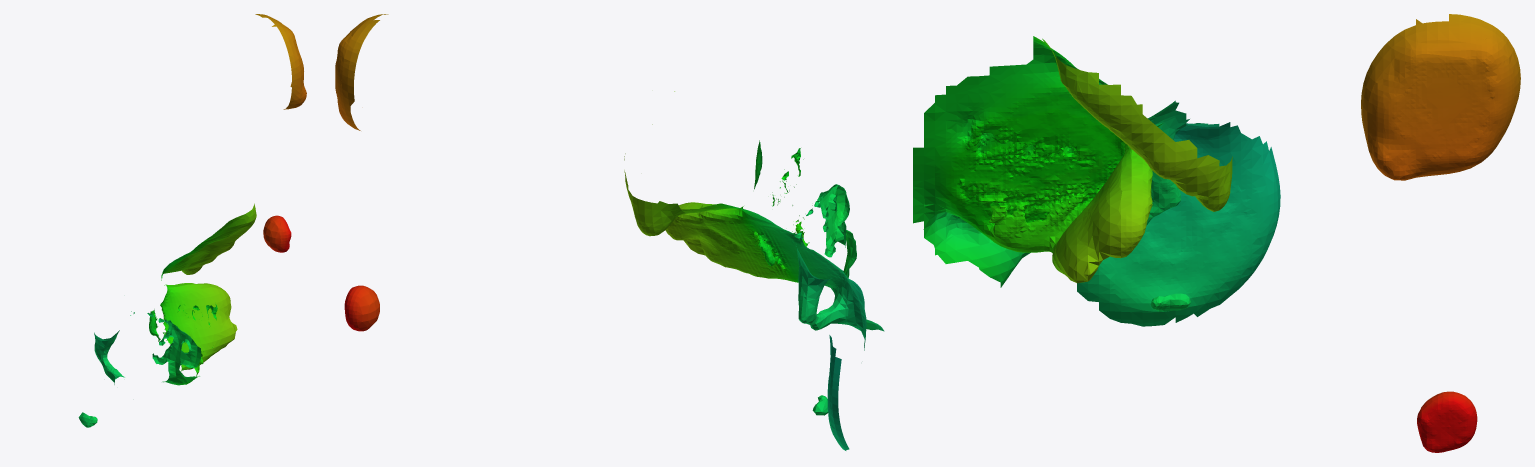
3 views of the same model, side by side, from view 1: azimuth 30°, elevation 25°; view 2: azimuth 150°, elevation 25°; view 3: azimuth 270°, elevation 25° (orthographic). The views are drawn at different scales.
Visible parts, largest first — view 1: geometry_0; view 2: geometry_0; view 3: geometry_0.
Boxes of the visible parts, bbox=[...] form: geometry_0: bbox=[78, 14, 306, 427]; geometry_0: bbox=[335, 14, 884, 450]; geometry_0: bbox=[913, 14, 1520, 452].
Bounding box in the file's own units: 0.6488 × 0.5894 × 0.5906.
